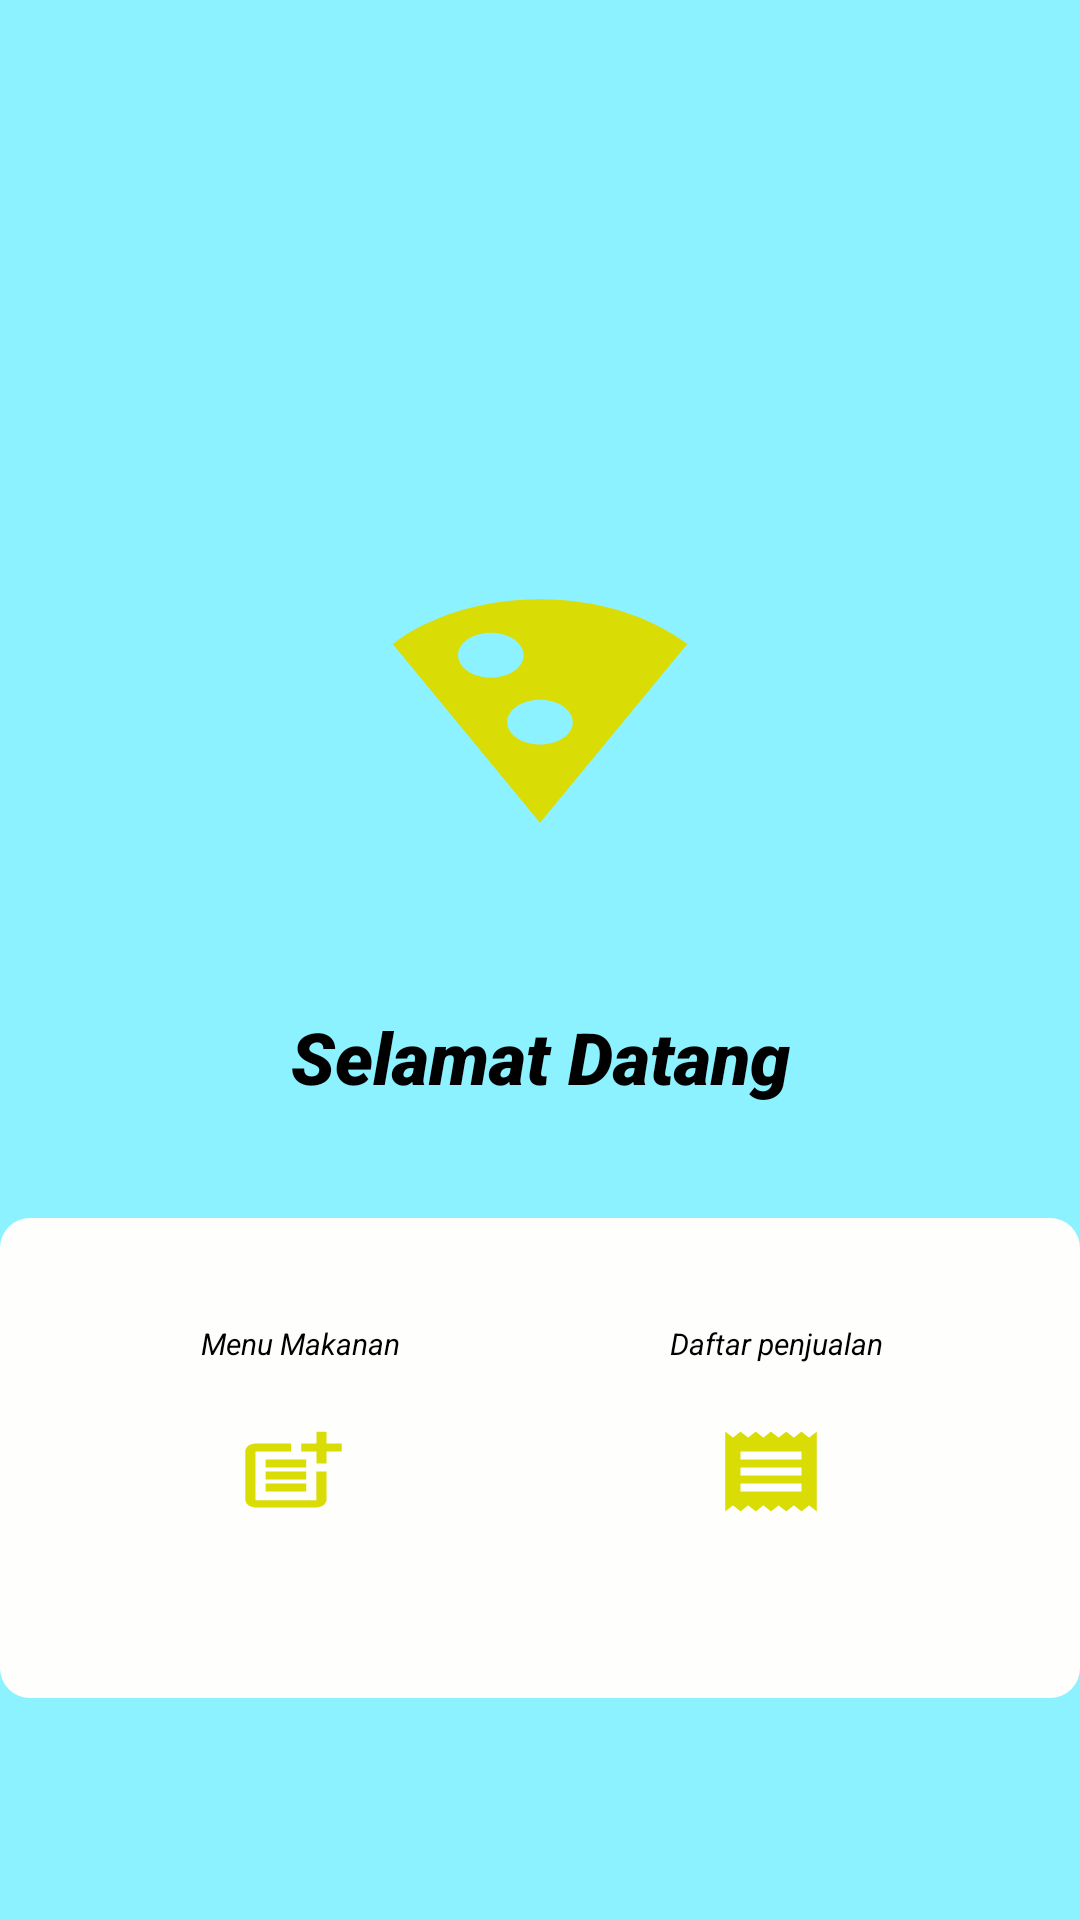

Where to tap for icons on this 1080 × 1920 app screen, as [x,y]:
laporan: [771,1471]
pizza: [540,711]
tambahmenu: [293,1469]
